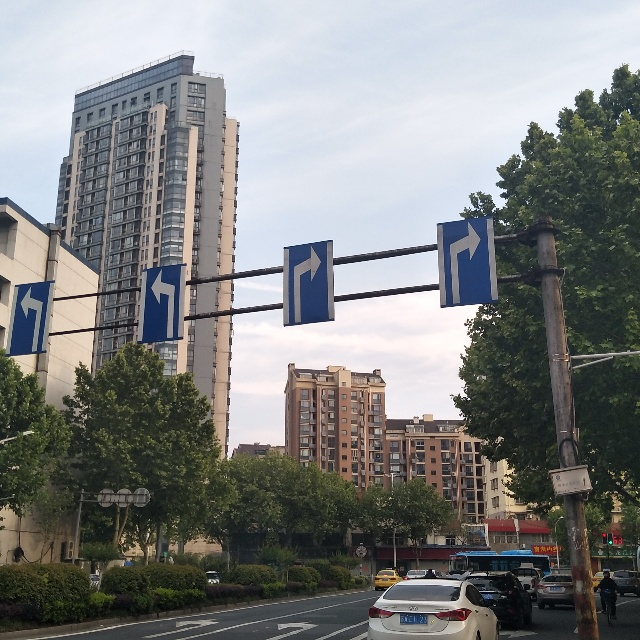left: (138, 264, 187, 343), (6, 281, 52, 356)
right: (436, 217, 499, 309), (282, 240, 335, 327)
